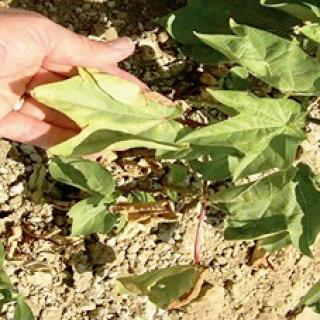wilt: (78, 64, 174, 126)
